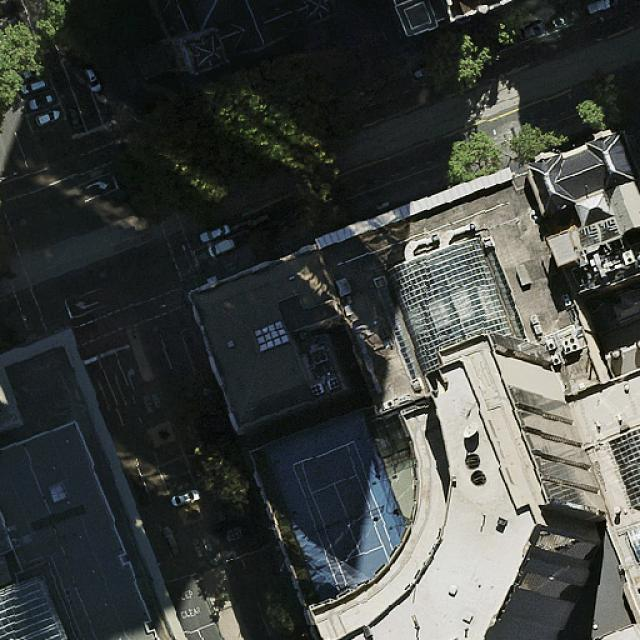Bike-Symbols: (198, 251, 211, 261)
